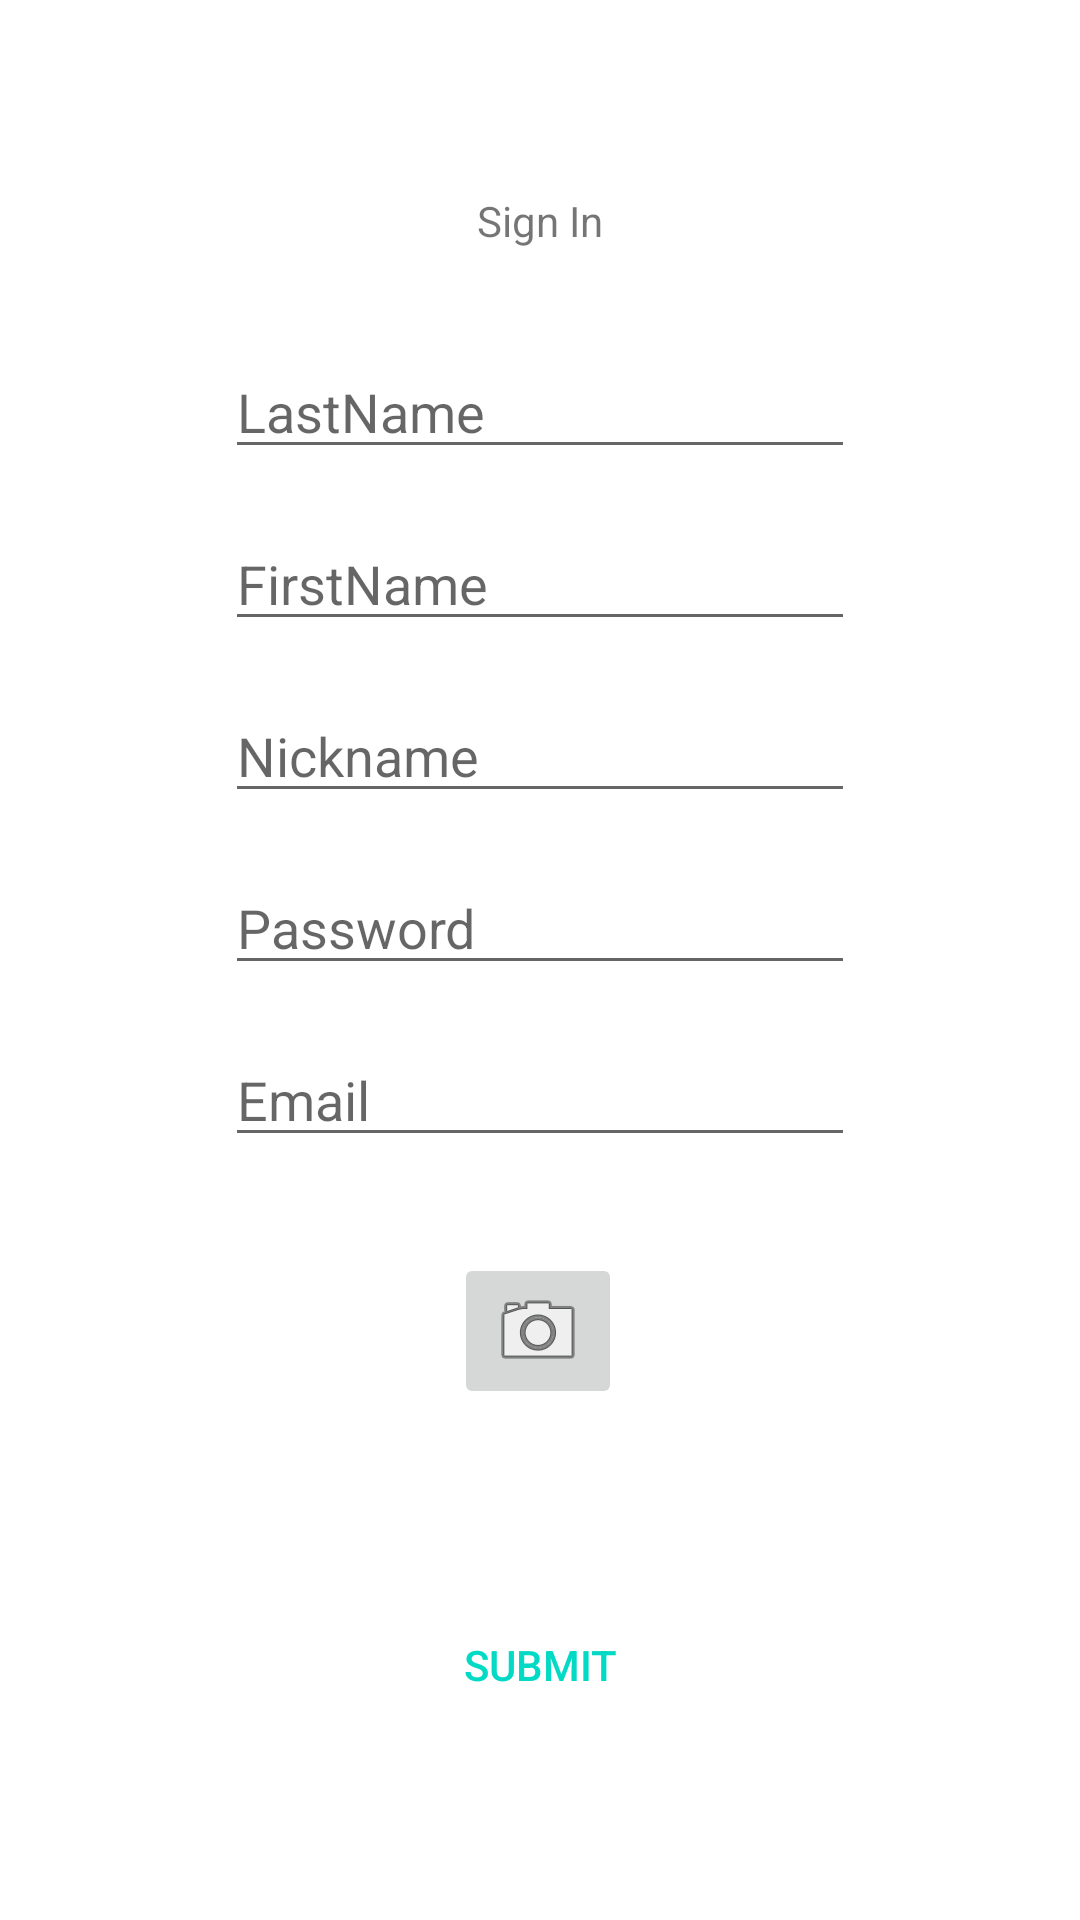

Where to tap for icons on this 1080px×1920px app screen, as (x,y):
camera: (538,1331)
